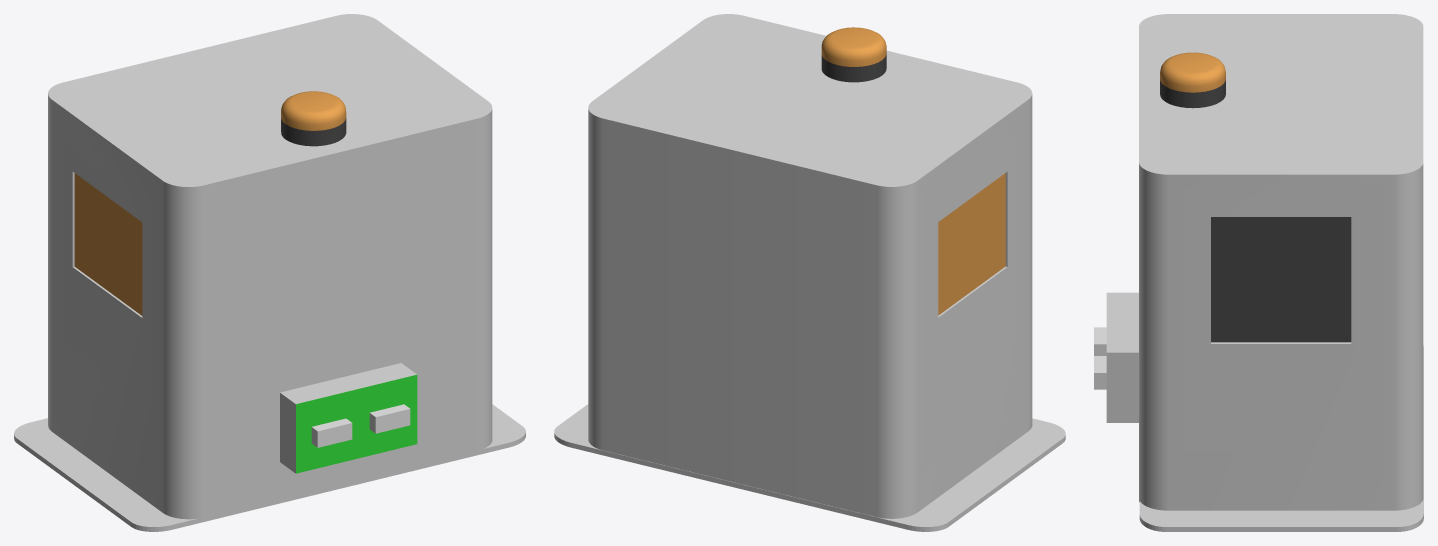
The model's file is chargeStation.glb.
The picture shows the model from 3 angles, left to right: view 1: azimuth 30°, elevation 25°; view 2: azimuth 150°, elevation 25°; view 3: azimuth 270°, elevation 25°; orthographic projection.
Parts seen in each view (by area): view 1: 3DGeom-8, 3DGeom-7, 3DGeom-4, 3DGeom-10, 3DGeom-3, 3DGeom-1, 3DGeom-2, 3DGeom-6, 3DGeom-5; view 2: 3DGeom-8, 3DGeom-7, 3DGeom-10, 3DGeom-1, 3DGeom-2; view 3: 3DGeom-8, 3DGeom-9, 3DGeom-7, 3DGeom-3, 3DGeom-1, 3DGeom-2, 3DGeom-5.
Boxes of the visible parts, left/top/right/bottom form: 3DGeom-8: left=48, top=14, right=492, bottom=520; 3DGeom-7: left=14, top=404, right=525, bottom=531; 3DGeom-4: left=296, top=374, right=417, bottom=473; 3DGeom-10: left=74, top=173, right=142, bottom=315; 3DGeom-3: left=280, top=363, right=416, bottom=473; 3DGeom-1: left=281, top=91, right=346, bottom=130; 3DGeom-2: left=281, top=117, right=346, bottom=146; 3DGeom-6: left=311, top=418, right=352, bottom=447; 3DGeom-5: left=369, top=404, right=410, bottom=433; 3DGeom-8: left=588, top=14, right=1032, bottom=518; 3DGeom-7: left=554, top=404, right=1065, bottom=531; 3DGeom-10: left=938, top=173, right=1005, bottom=315; 3DGeom-1: left=821, top=27, right=886, bottom=66; 3DGeom-2: left=821, top=54, right=886, bottom=82; 3DGeom-8: left=1139, top=14, right=1423, bottom=510; 3DGeom-9: left=1211, top=217, right=1351, bottom=342; 3DGeom-7: left=1139, top=345, right=1423, bottom=531; 3DGeom-3: left=1106, top=292, right=1138, bottom=422; 3DGeom-1: left=1160, top=52, right=1225, bottom=92; 3DGeom-2: left=1160, top=79, right=1225, bottom=108; 3DGeom-5: left=1094, top=356, right=1106, bottom=389.
Size of the model in its own units: 0.4819 by 0.4323 by 0.3473.
